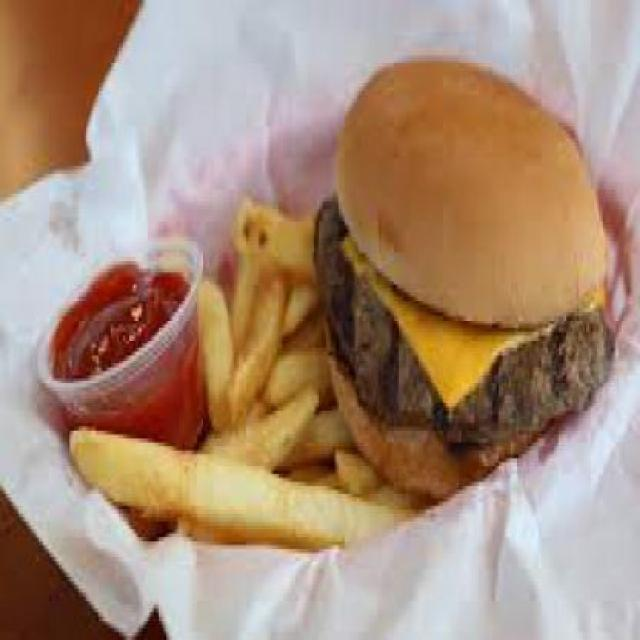french fries: (72, 174, 326, 569)
hamburger: (320, 48, 622, 494)
